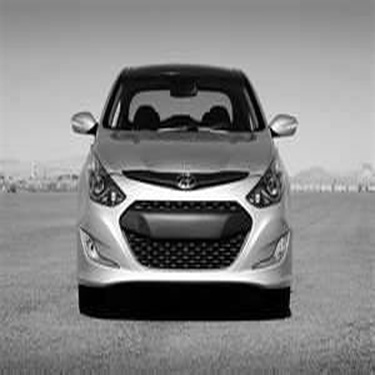car: (72, 50, 303, 334)
